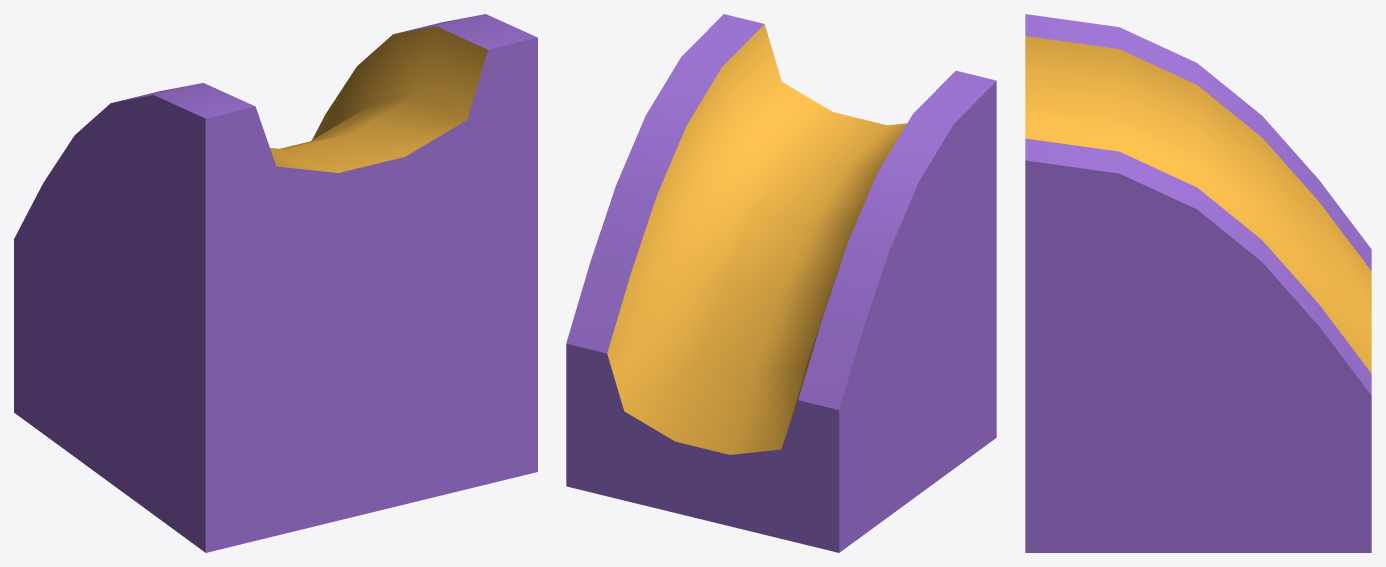
File: ramp-end-solid-d.glb
3 views of the same model, side by side, from view 1: azimuth 30°, elevation 25°; view 2: azimuth 150°, elevation 25°; view 3: azimuth 270°, elevation 25° (orthographic). The views are drawn at different scales.
Parts seen in each view (by area): view 1: ramp-end-solid-d; view 2: ramp-end-solid-d; view 3: ramp-end-solid-d.
Part boxes in pixels (left/top/right/bottom): ramp-end-solid-d: left=14, top=14, right=537, bottom=552; ramp-end-solid-d: left=566, top=14, right=996, bottom=552; ramp-end-solid-d: left=1025, top=14, right=1371, bottom=552.
Size of the model in its own units: 1 by 1.25 by 1.
Materials: 1 (1 with a texture image).
